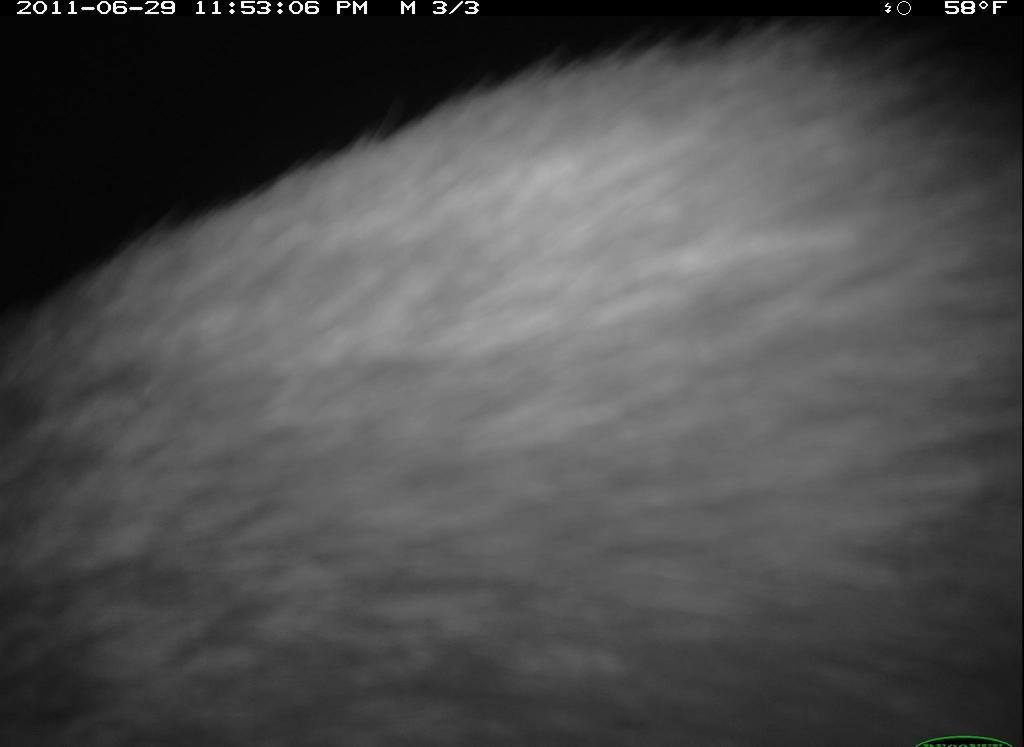raccoon: (4, 22, 1021, 747)
